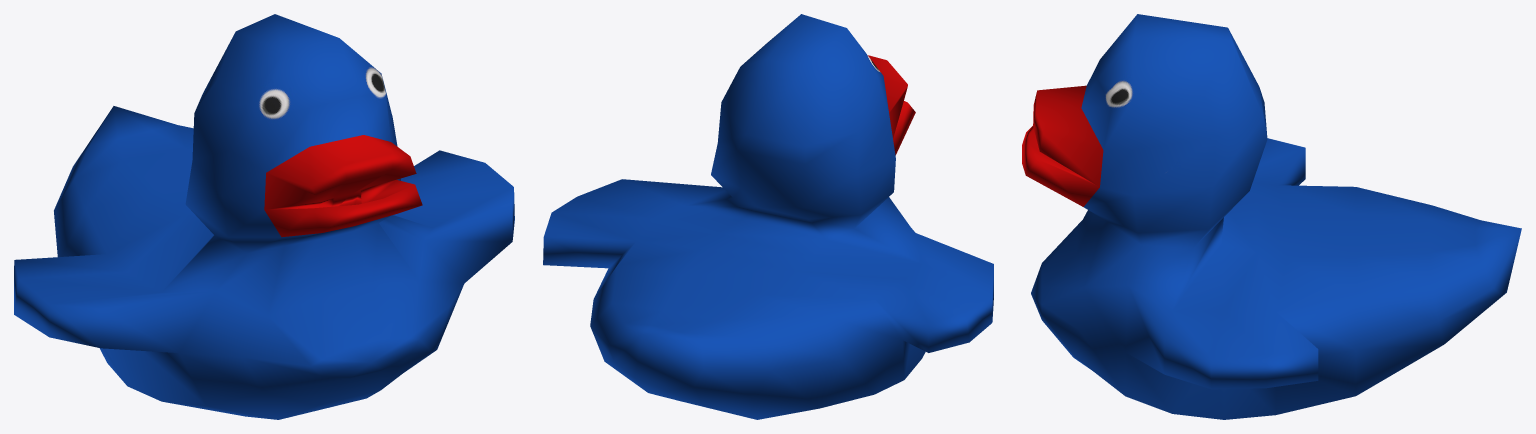
File: blue.fbx
The picture shows the model from 3 angles, left to right: view 1: azimuth 30°, elevation 25°; view 2: azimuth 150°, elevation 25°; view 3: azimuth 270°, elevation 25°; orthographic projection. The views are drawn at different scales.
Parts seen in each view (by area): view 1: pSphere1; view 2: pSphere1; view 3: pSphere1.
Boxes of the visible parts, x1,y1,x2,y2 form: pSphere1: (14,14,514,419); pSphere1: (543,14,993,419); pSphere1: (1022,14,1521,419).
Size of the model in its own units: 82.97 by 63.43 by 79.4.
